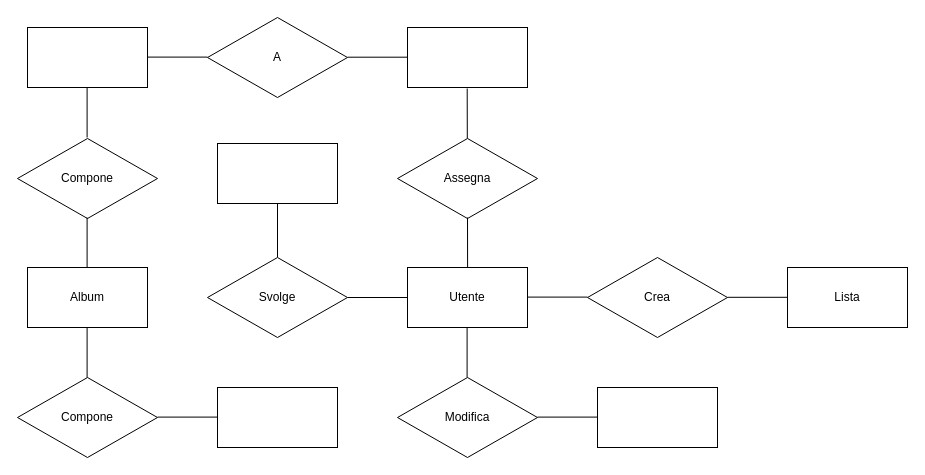
This 925x475 diagram has some shape labels left out. The box of each missing label's shape, as (x1, y1, x2, y2) in pixels:
Artista: (216, 386, 338, 448)
Brano: (26, 26, 148, 88)
Pagine: (596, 386, 718, 448)
Punteggio: (406, 26, 528, 88)
Ricerca: (216, 142, 338, 204)
